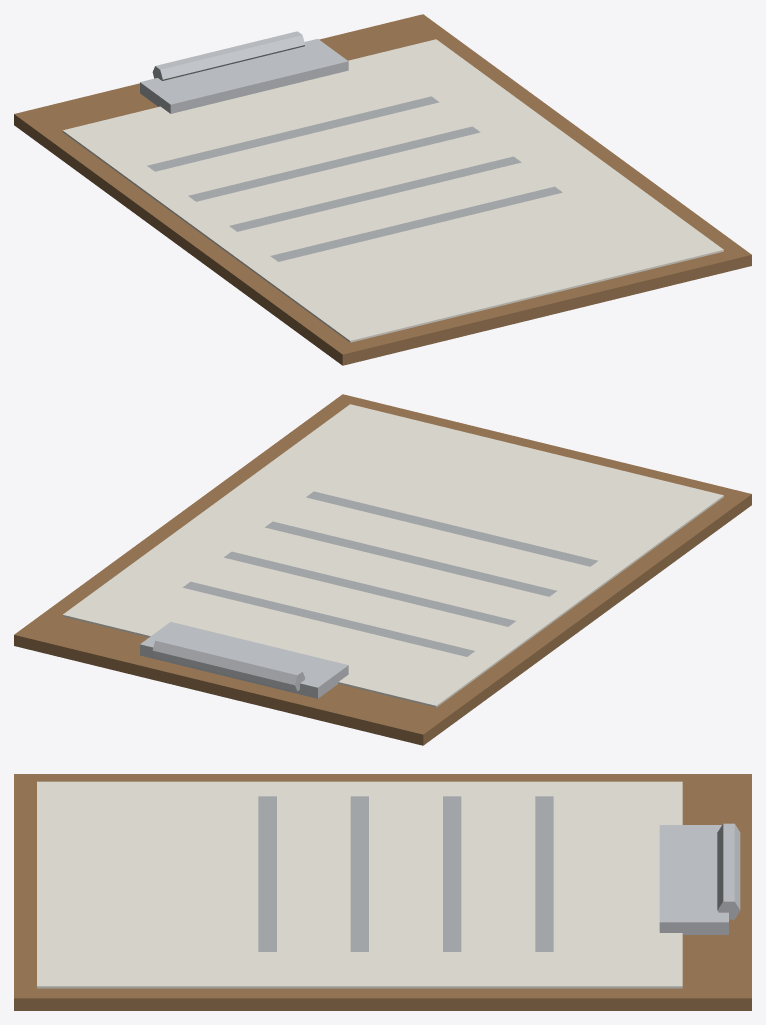
Rendered from Clipboard.fbx.
The picture shows the model from 3 angles, top to bottom: view 1: azimuth 30°, elevation 25°; view 2: azimuth 150°, elevation 25°; view 3: azimuth 270°, elevation 25°; orthographic projection. The views are drawn at different scales.
Parts seen in each view (by area): view 1: Clipboard; view 2: Clipboard; view 3: Clipboard.
Part boxes in pixels (<box>): Clipboard: <box>14,14,751,365</box>; Clipboard: <box>14,394,751,745</box>; Clipboard: <box>14,774,751,1010</box>.
Size of the model in its own units: 0.23 by 0.0173 by 0.32.
